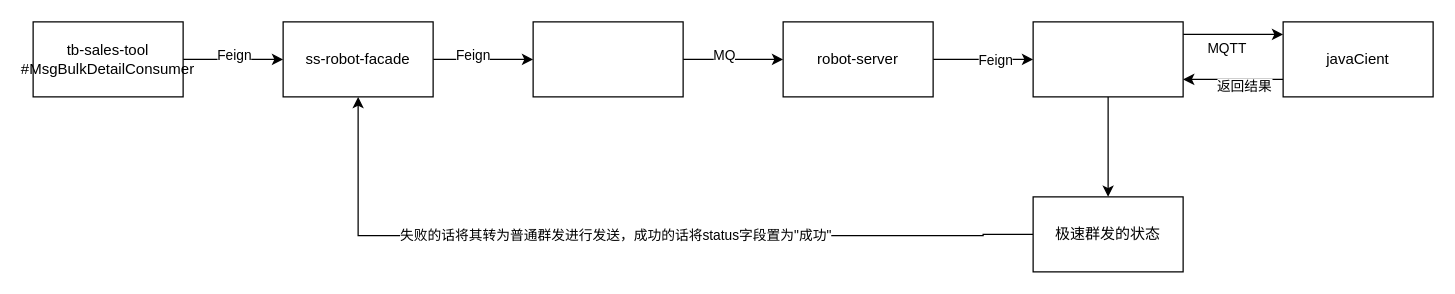
This 1455x294 diagram has some shape labels left out. The centre of each missing label's shape, as x and y in pixels:
"robot-cloud" belongs at point (1107, 59).
"task-center" belongs at point (607, 59).
